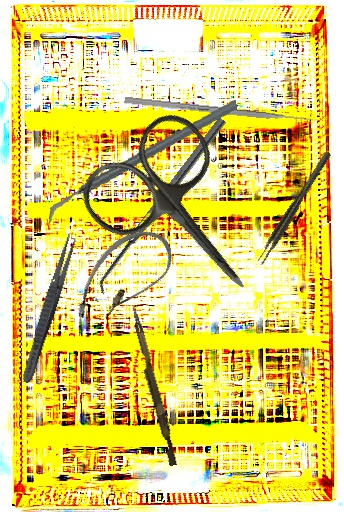Cannula: (64, 214, 183, 344)
Chopper: (37, 98, 247, 225)
Dressing Forceps: (18, 231, 80, 385)
Iris Scissors: (69, 101, 296, 334)
Pusher: (124, 305, 182, 467), (124, 96, 322, 125)
Spatula Surgical: (92, 117, 233, 296)
Tissue Forceps: (254, 150, 335, 267)
